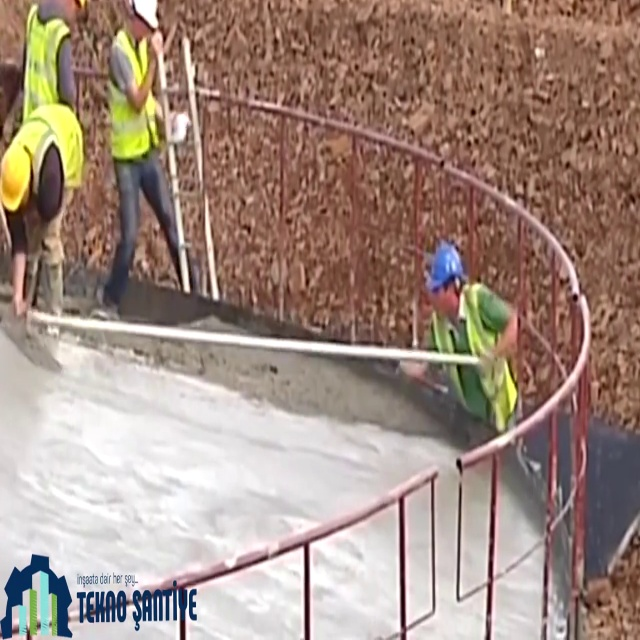safety_helmet: (33, 138, 66, 222), (424, 240, 467, 291), (129, 0, 161, 30)
